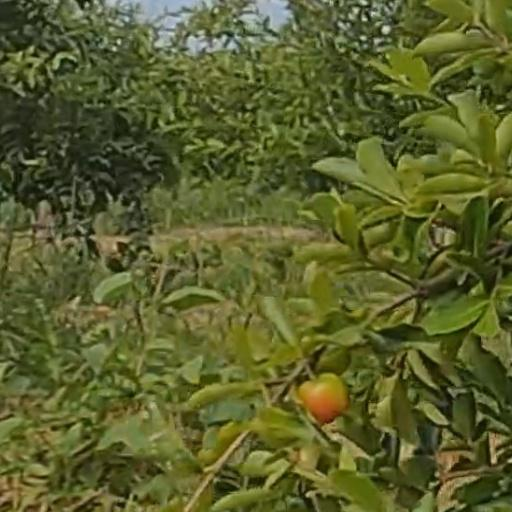acerola: (302, 376, 350, 422)
